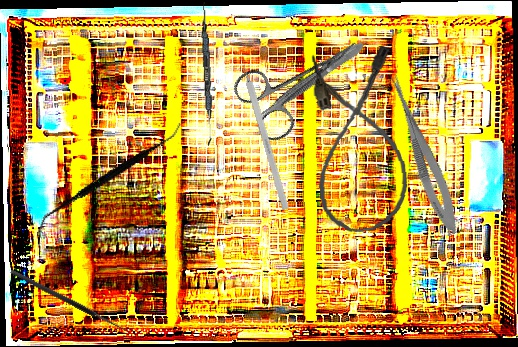Cannula: (307, 45, 412, 235)
Hook Surgical: (9, 263, 135, 335), (237, 50, 289, 211)
Iris Scissors: (228, 14, 379, 148)
Micro Scissor: (378, 69, 466, 239)
Spatula Surgical: (37, 88, 183, 267), (197, 1, 217, 147)
Tissue Forceps: (253, 39, 367, 122)
